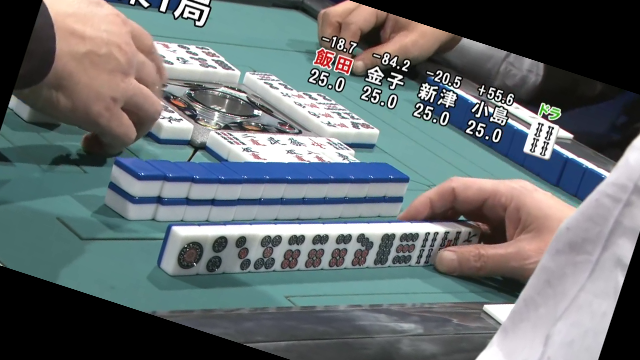Tehai: (166, 222, 507, 275)
